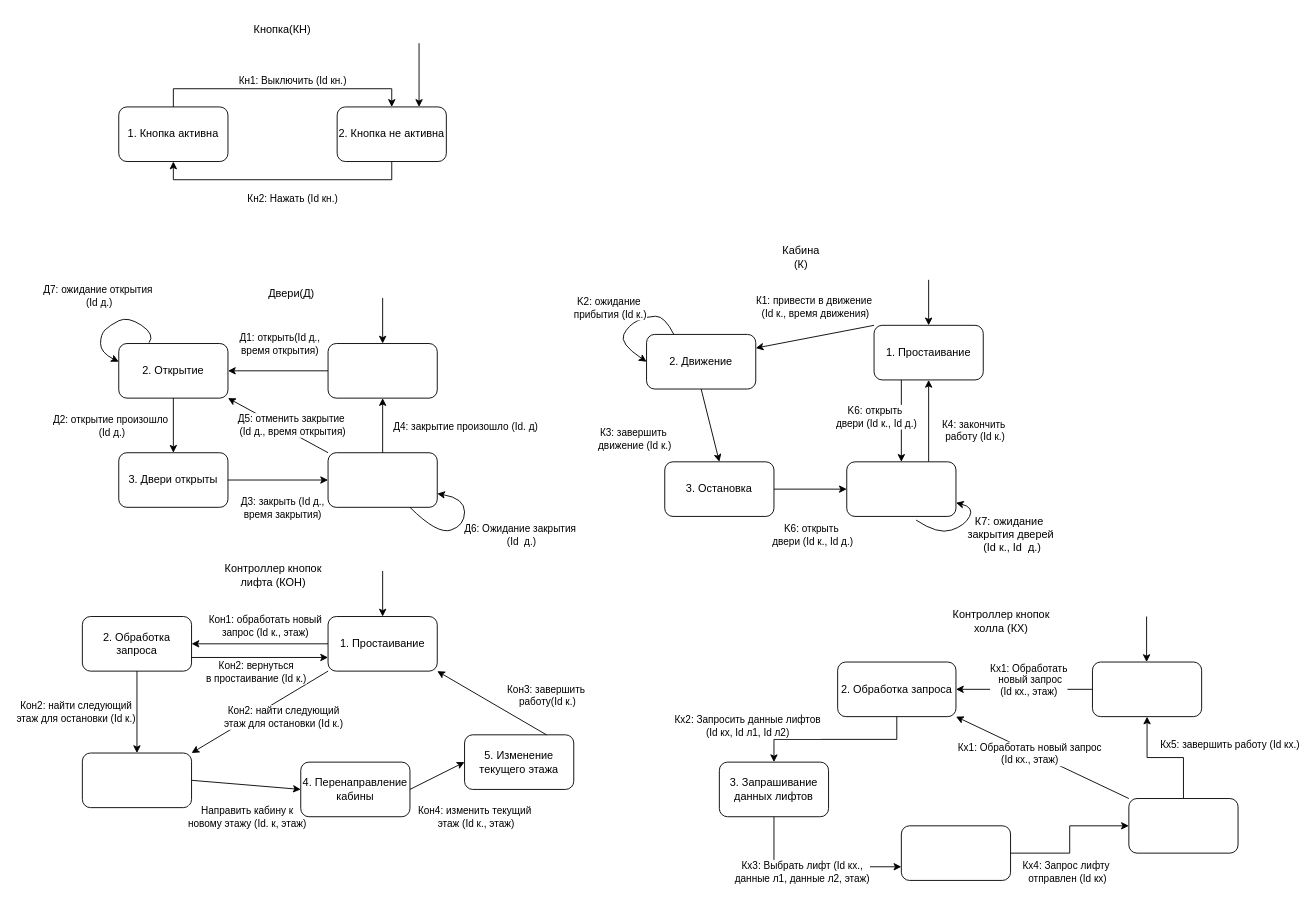
Some shapes in this 1315 by 899 pixel diagram are drawn without their labels. The shapes that lost their labels are listed below. From the top down, each one's centre as x and y in pixels, then its label:
At [382,370]: "1. Двери закрыты".
At [382,479]: "4. Закрытие".
At [901,488]: "5. Ожидание дверей".
At [1147,689]: "1. Проставивание".
At [136,780]: "3. Поиск нового назначения".
At [1183,825]: "5. Проверка запросов в очереди".
At [955,852]: "4. Отправка запроса выбранному лифту".
